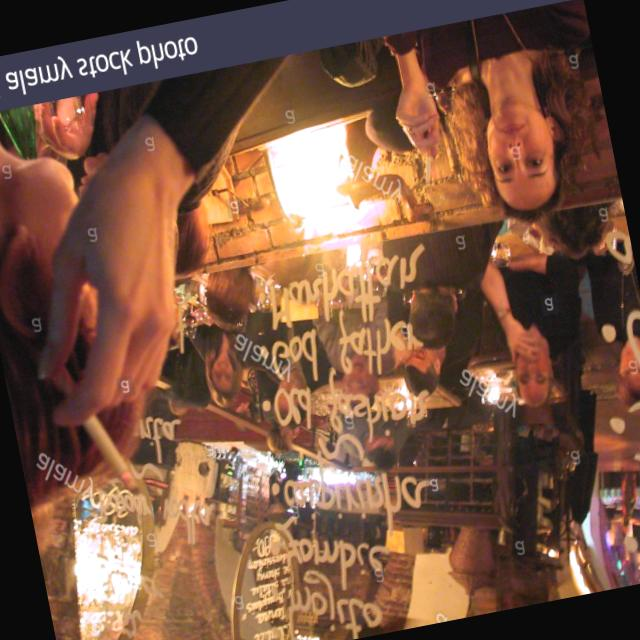cigarette: (59, 361, 166, 524), (408, 133, 446, 198)
